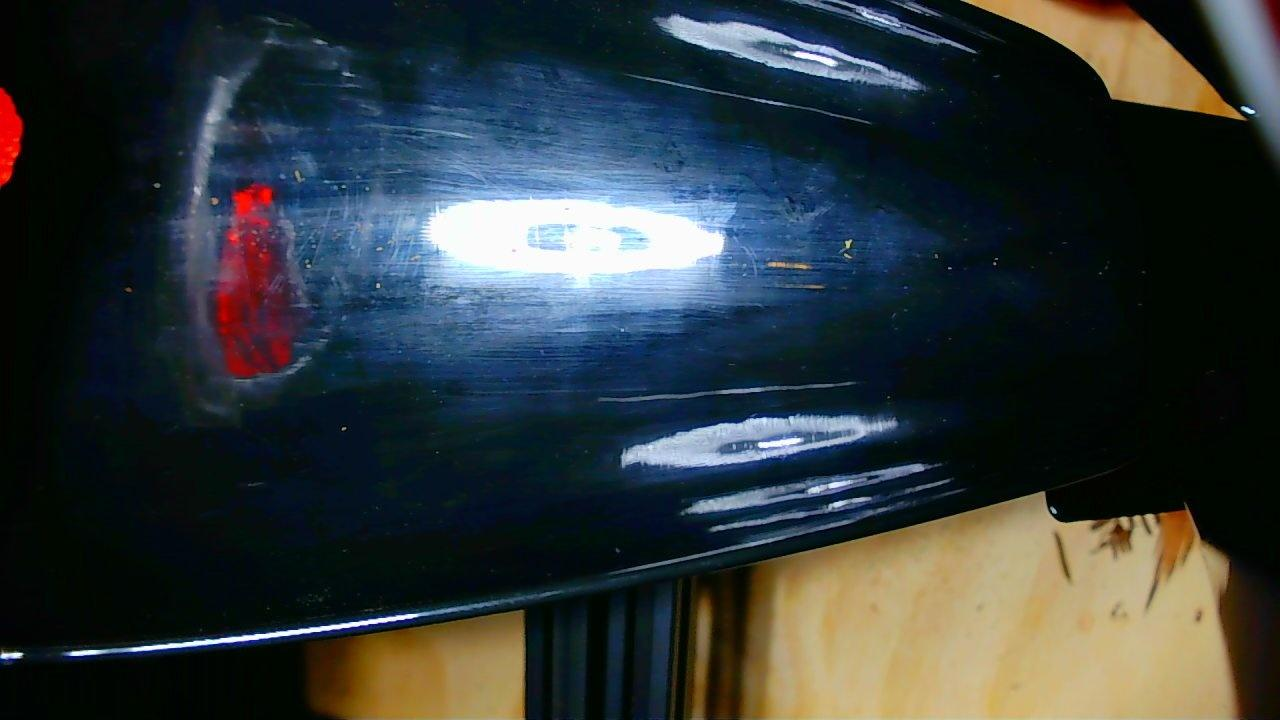berry: (0, 88, 22, 185)
